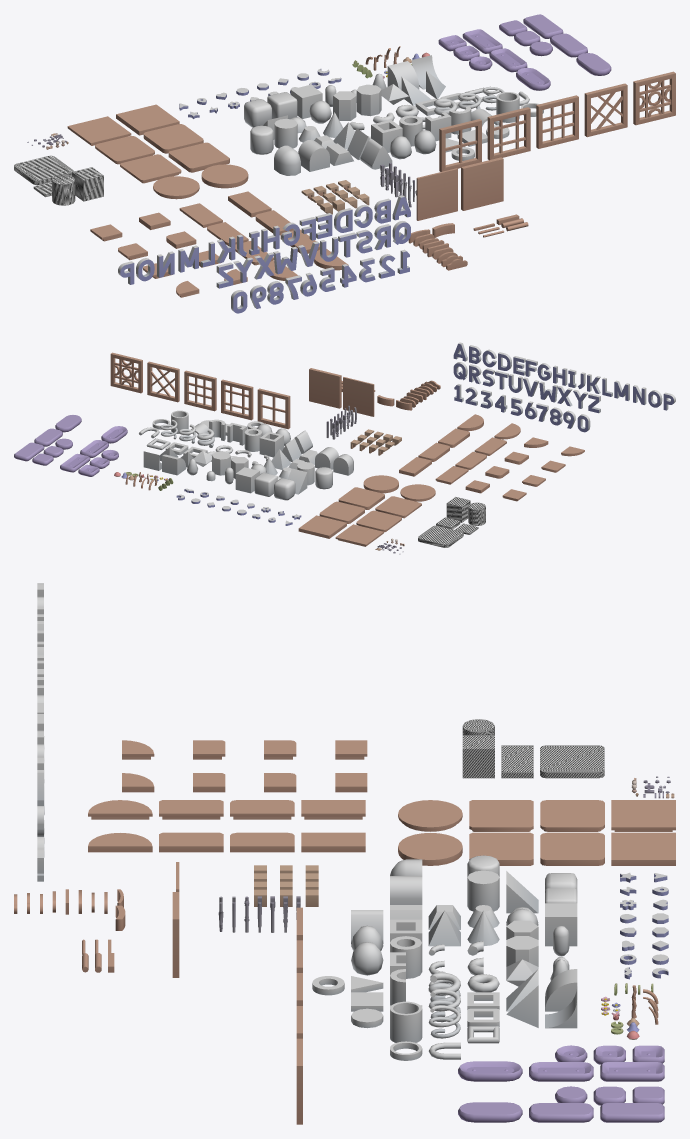
The model's file is primitives.glb.
3 views of the same model, one above another, from view 1: azimuth 30°, elevation 25°; view 2: azimuth 150°, elevation 25°; view 3: azimuth 270°, elevation 25° (orthographic). The views are drawn at different scales.
Visible parts, largest first — view 1: planks-plank, planks-plank-thin, planks-frame-e, planks-frame-b, planks-frame-c, planks-frame-d, planks-frame-a, surfaces-surface, surfaces-surface-square, surfaces-surface-rounded, surfaces-surface-edge, glass-surface-rounded (+32 smaller); view 2: planks-plank, planks-plank-thin, planks-frame-e, planks-frame-c, planks-frame-b, planks-frame-d, planks-frame-a, surfaces-surface-square, glass-surface-rounded, surfaces-surface, surfaces-surface-square-edge, surfaces-surface-rounded (+28 smaller); view 3: surfaces-surface-square, glass-surface-rounded, surfaces-surface-rounded, surfaces-surface-square-edge, surfaces-surface-edge, surfaces-surface-rounded-edge, surfaces-surface, surfaces-surface-round, surfaces-surface-round-edge, glass-cube, surfaces-half-surface-square, surfaces-half-surface (+22 smaller).
Part boxes in pixels (x1,y1,x2,y2): planks-plank: [461, 157, 503, 210]; planks-plank-thin: [416, 168, 457, 220]; planks-frame-e: [633, 71, 675, 125]; planks-frame-b: [487, 107, 530, 160]; planks-frame-c: [536, 95, 578, 148]; planks-frame-d: [584, 83, 627, 137]; planks-frame-a: [439, 119, 481, 171]; surfaces-surface: [168, 142, 229, 172]; surfaces-surface-square: [116, 104, 179, 135]; surfaces-surface-rounded: [143, 124, 203, 153]; surfaces-surface-edge: [120, 154, 181, 183]; glass-surface-rounded: [14, 155, 73, 185]; planks-plank: [309, 368, 341, 408]; planks-plank-thin: [343, 377, 374, 416]; planks-frame-e: [110, 352, 142, 393]; planks-frame-c: [184, 370, 216, 411]; planks-frame-b: [221, 379, 253, 420]; planks-frame-d: [147, 361, 179, 402]; planks-frame-a: [257, 388, 290, 429]; surfaces-surface-square: [298, 515, 346, 538]; glass-surface-rounded: [418, 525, 463, 547]; surfaces-surface: [338, 487, 384, 509]; surfaces-surface-square-edge: [335, 524, 383, 546]; surfaces-surface-rounded: [319, 501, 364, 523]; surfaces-surface-square: [611, 832, 675, 865]; glass-surface-rounded: [540, 745, 604, 778]; surfaces-surface-rounded: [540, 832, 604, 865]; surfaces-surface-square-edge: [611, 800, 675, 831]; surfaces-surface-edge: [469, 800, 533, 831]; surfaces-surface-rounded-edge: [540, 800, 604, 831]; surfaces-surface: [469, 832, 533, 865]; surfaces-surface-round: [398, 833, 462, 865]; surfaces-surface-round-edge: [398, 800, 462, 831]; glass-cube: [462, 735, 494, 778]; surfaces-half-surface-square: [301, 832, 365, 852]; surfaces-half-surface: [159, 832, 223, 852].
Size of the model in its own units: 16.07 by 1.8 by 10.24.
2 materials, 1 textured.
